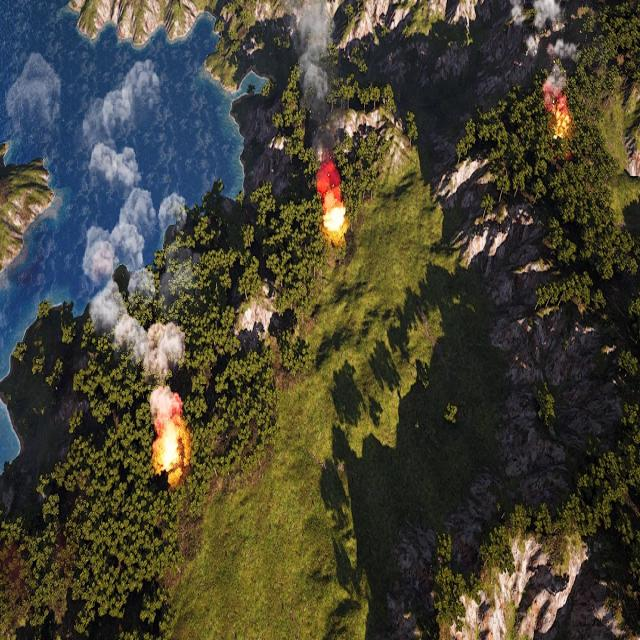fire: (154, 418, 187, 475), (321, 177, 348, 239), (550, 96, 572, 137)
smoke: (84, 60, 189, 413), (286, 0, 342, 192), (506, 0, 580, 100), (6, 55, 62, 144)
